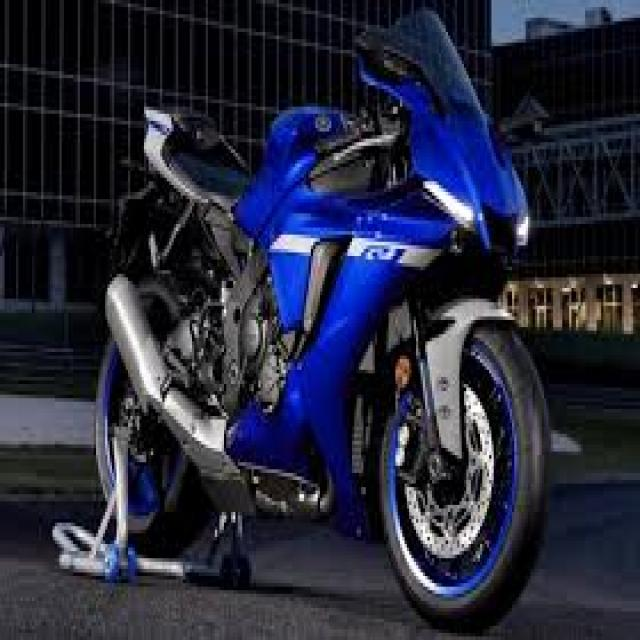Bike: (93, 8, 552, 632)
